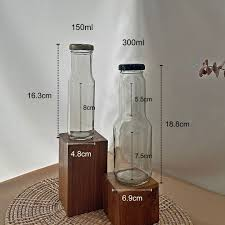glass_bottle: (110, 59, 156, 187), (64, 41, 100, 142)
